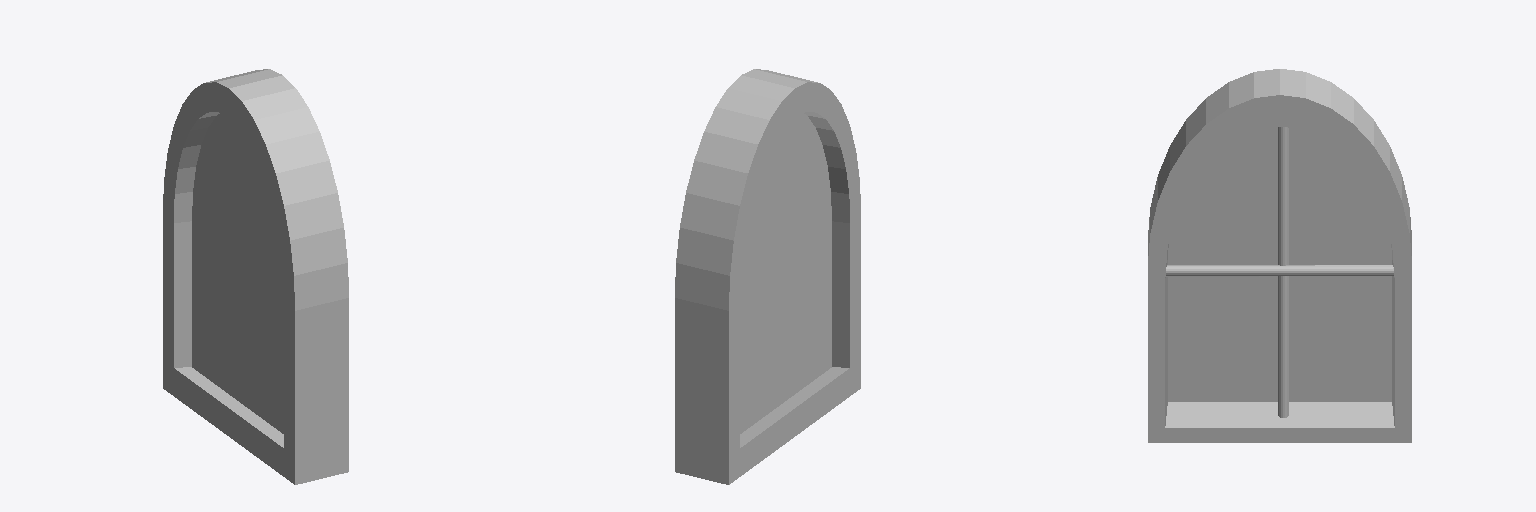
The model's file is Window.obj.
The picture shows the model from 3 angles: view 1: azimuth 30°, elevation 25°; view 2: azimuth 150°, elevation 25°; view 3: azimuth 270°, elevation 25°; orthographic projection.
Parts seen in each view (by area): view 1: WindowFrame, Window.001; view 2: WindowFrame, Window.001; view 3: Window.001, WindowFrame, WindowBar, WindowBar.001.
Part boxes in pixels (left/top/right/bottom): WindowFrame: left=163, top=69, right=348, bottom=484; Window.001: left=192, top=113, right=283, bottom=433; WindowFrame: left=675, top=69, right=860, bottom=484; Window.001: left=740, top=113, right=831, bottom=433; Window.001: left=1168, top=127, right=1391, bottom=401; WindowFrame: left=1148, top=69, right=1411, bottom=442; WindowBar: left=1278, top=127, right=1288, bottom=417; WindowBar.001: left=1166, top=265, right=1393, bottom=276.
Size of the model in its own units: 2.65 by 16.3 by 11.23.